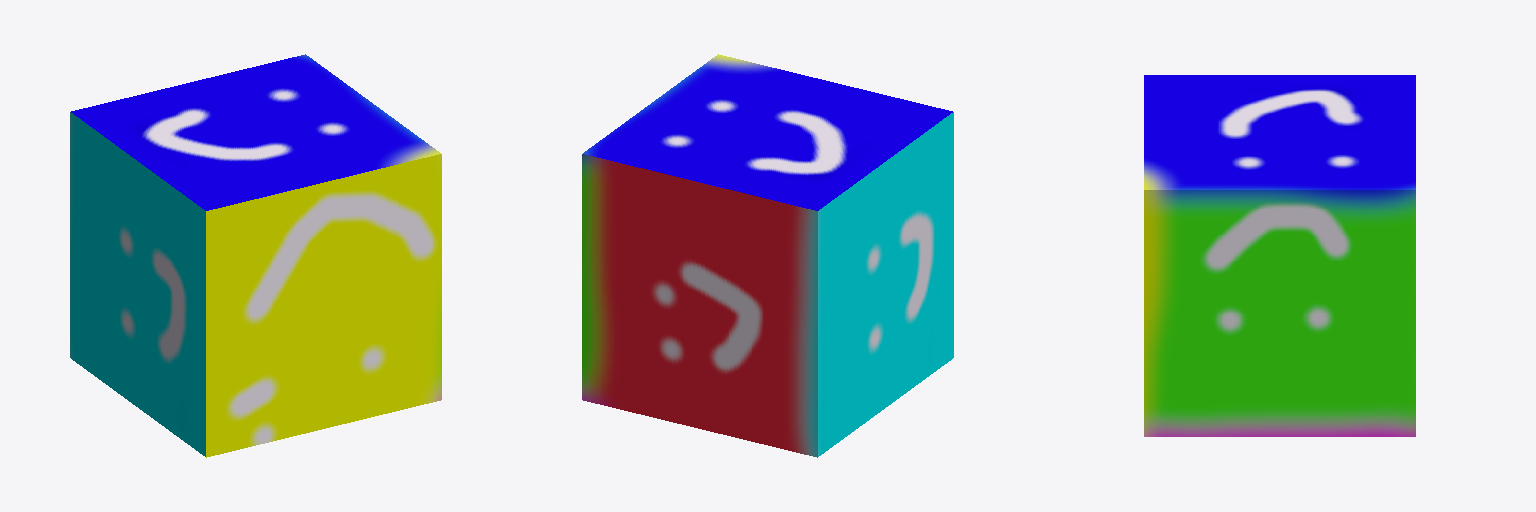
3 renders of one model, left to right at view 1: azimuth 30°, elevation 25°; view 2: azimuth 150°, elevation 25°; view 3: azimuth 270°, elevation 25°, orthographic.
Visible parts, largest first — view 1: Cube; view 2: Cube; view 3: Cube.
Part boxes in pixels (x1,y1,x2,y2): Cube: (70,54,441,457); Cube: (582,54,953,457); Cube: (1144,75,1415,436).
Bounding box in the file's own units: 2 × 2 × 2.
1 materials, 1 textured.